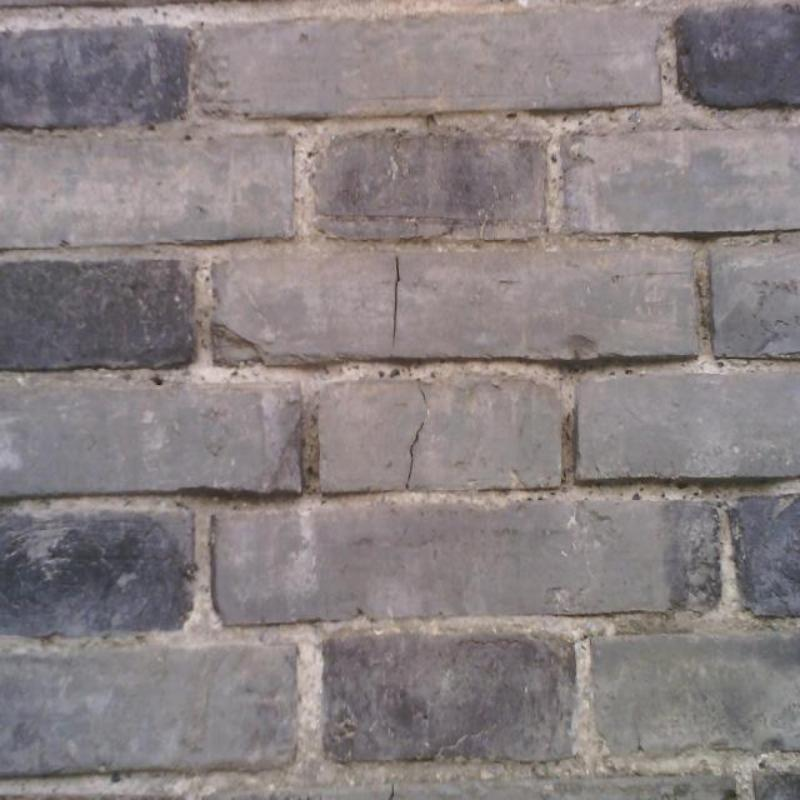pothole: (405, 421, 424, 489), (393, 257, 400, 346), (420, 388, 427, 408), (389, 783, 394, 800)
